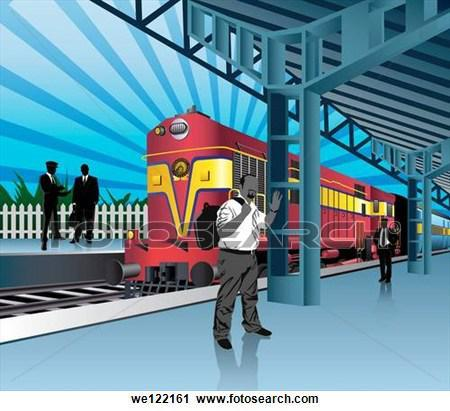person: (210, 173, 284, 349), (37, 159, 70, 251), (71, 163, 100, 246), (372, 218, 398, 286)
train: (108, 114, 448, 301)
